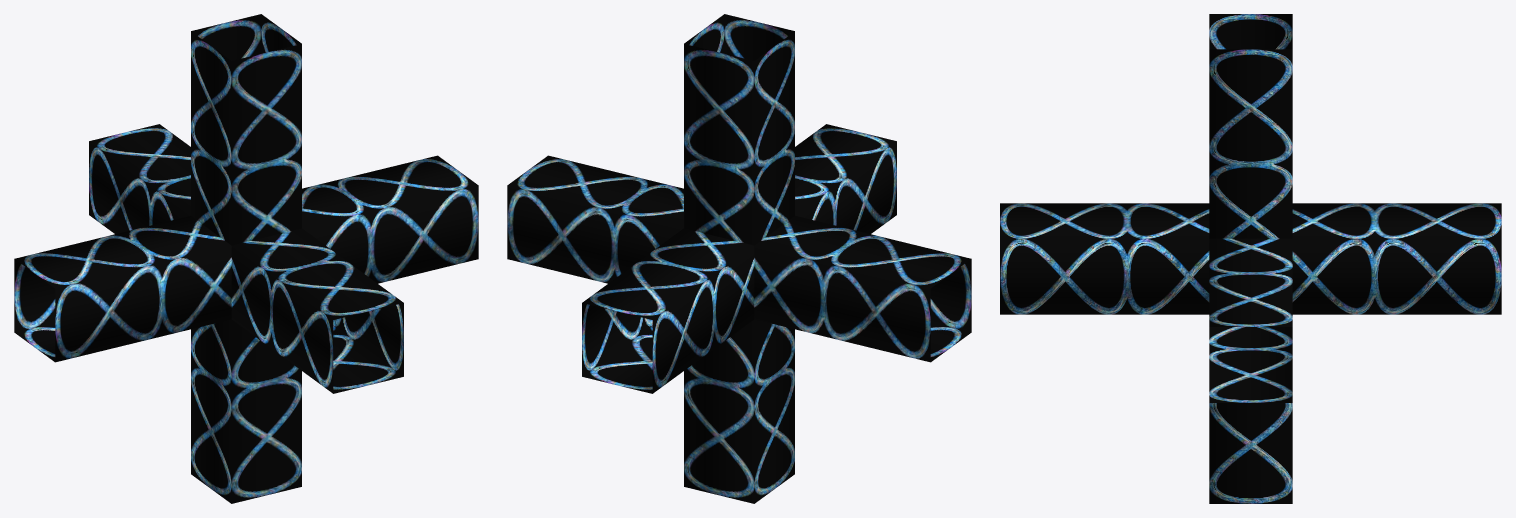
File: Tetrahemihexacron14.gltf
3 renders of one model, left to right at view 1: azimuth 30°, elevation 25°; view 2: azimuth 150°, elevation 25°; view 3: azimuth 270°, elevation 25°, orthographic. The views are drawn at different scales.
Visible parts, largest first — view 1: Tetrahemihexacron1; view 2: Tetrahemihexacron1; view 3: Tetrahemihexacron1.
Part boxes in pixels (<box>): Tetrahemihexacron1: <box>14,14,478,503</box>; Tetrahemihexacron1: <box>507,14,971,503</box>; Tetrahemihexacron1: <box>1000,14,1501,503</box>.
Bounding box in the file's own units: 6 × 6 × 6.
1 material, 1 textured.
